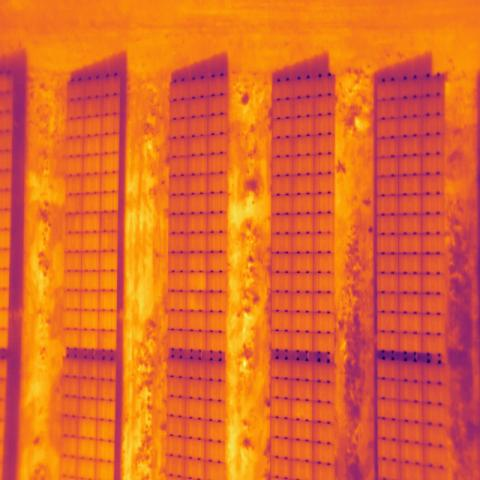fault: (292, 398, 314, 421)
